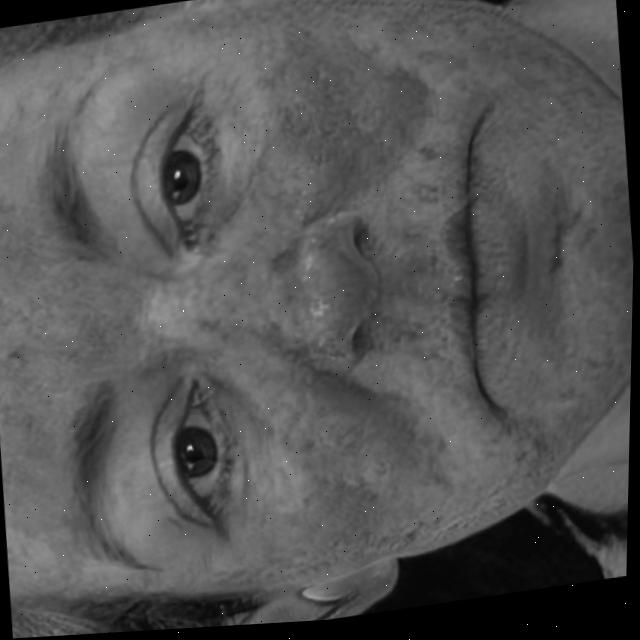Rosacea: (240, 21, 434, 211), (276, 387, 439, 558), (0, 197, 72, 514), (196, 249, 300, 353)
